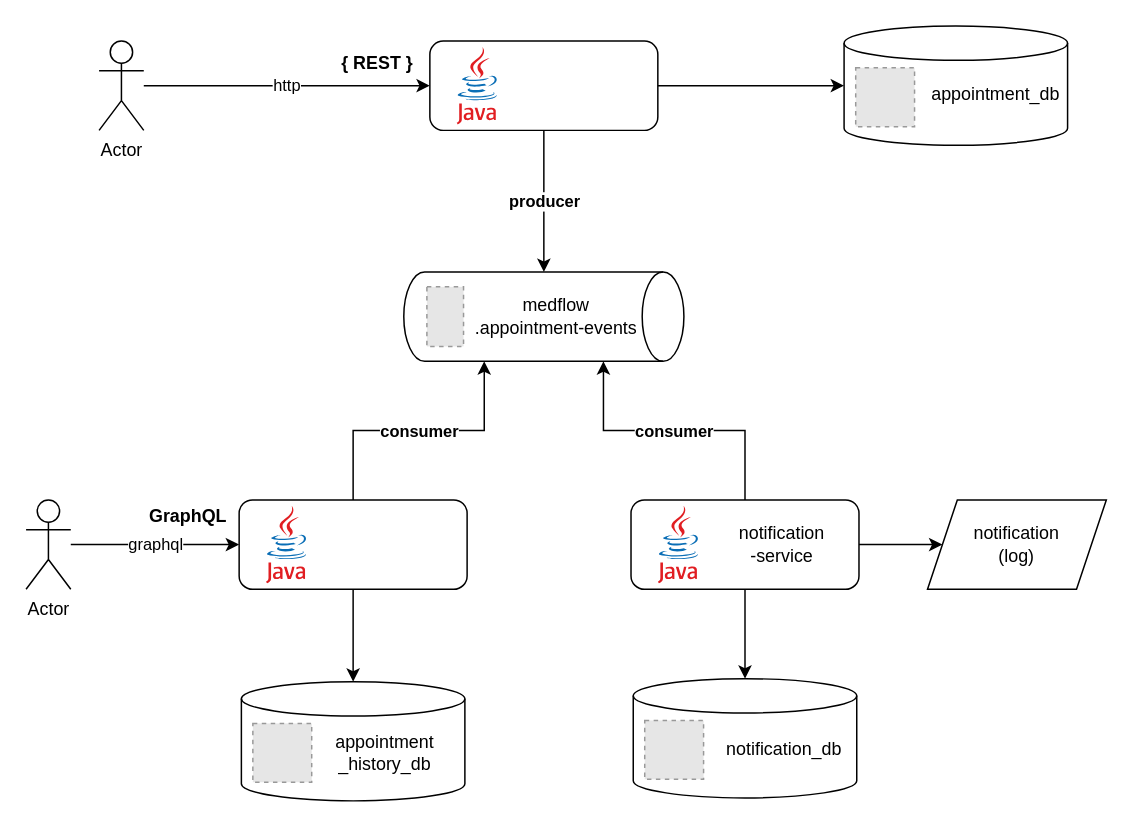
Image size: 1132x827. Some labels were removed from this diagram. Grey dashed boxes stand in for pictures. Here are the shapes that lost their labels. From the top down, the box of each, then its label:
(428, 39, 658, 130): appointment-service
(238, 498, 467, 589): appointment-history-service
